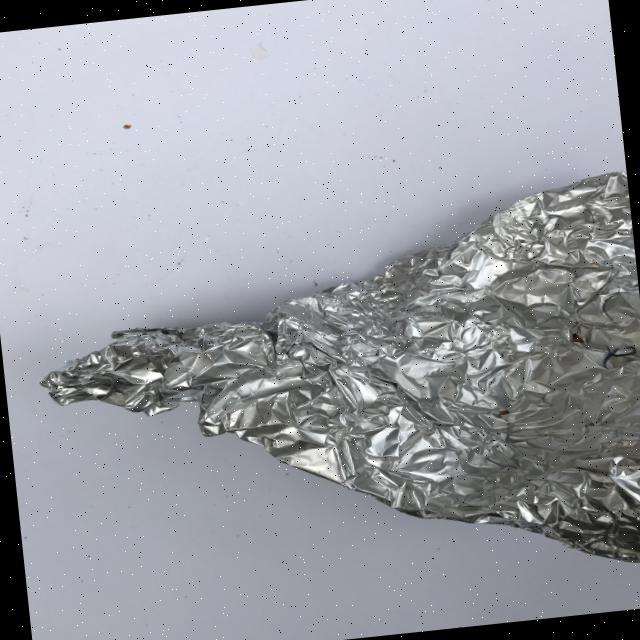metal: (23, 169, 640, 625)
